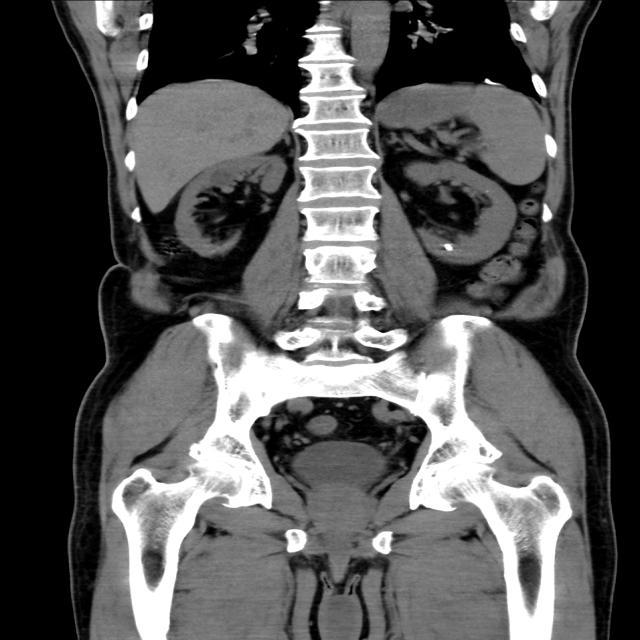kidneystone: (443, 242, 454, 251)
